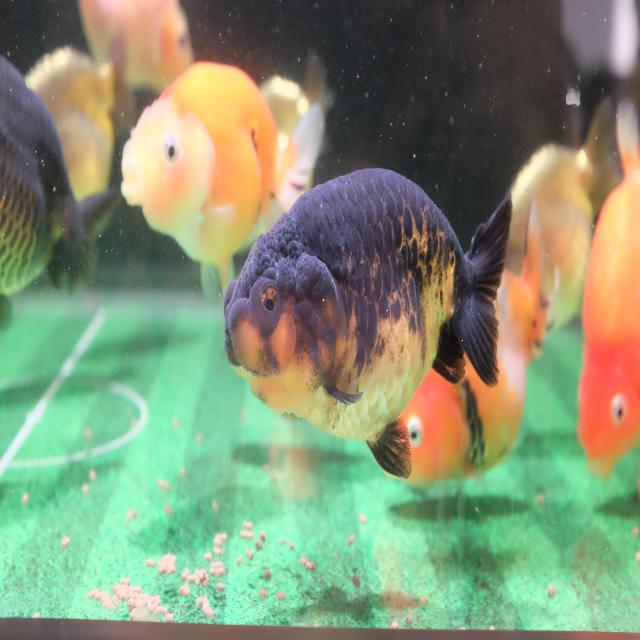Goldfish: (223, 167, 513, 479), (122, 61, 326, 310), (0, 56, 119, 325), (577, 97, 640, 484)
